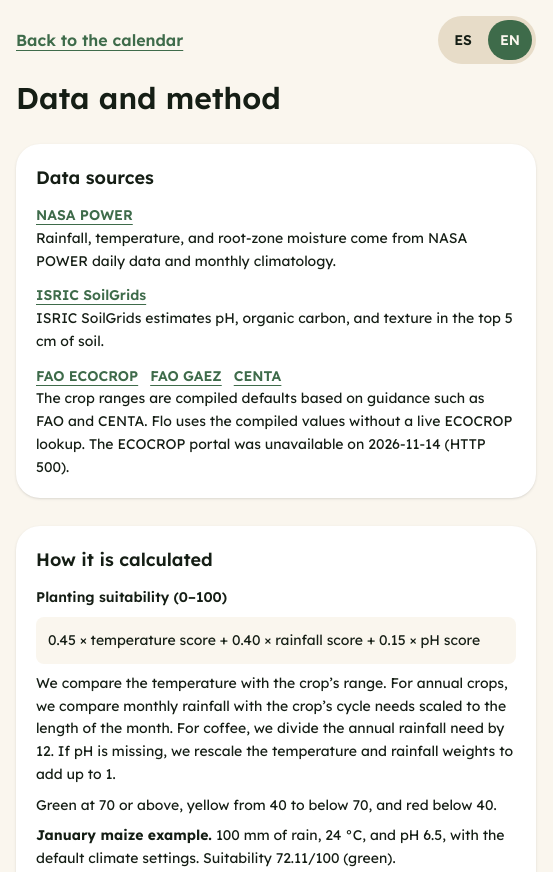
translates citations and explains that recent rainfall may be unavailable in English
Expected: the heading "Data and method" is shown, [16,79,281,117]
Expected: the text "compiled defaults" is shown, [36,389,512,453]
Click the button "ES".
click(463, 40)  # box [442,20,484,60]
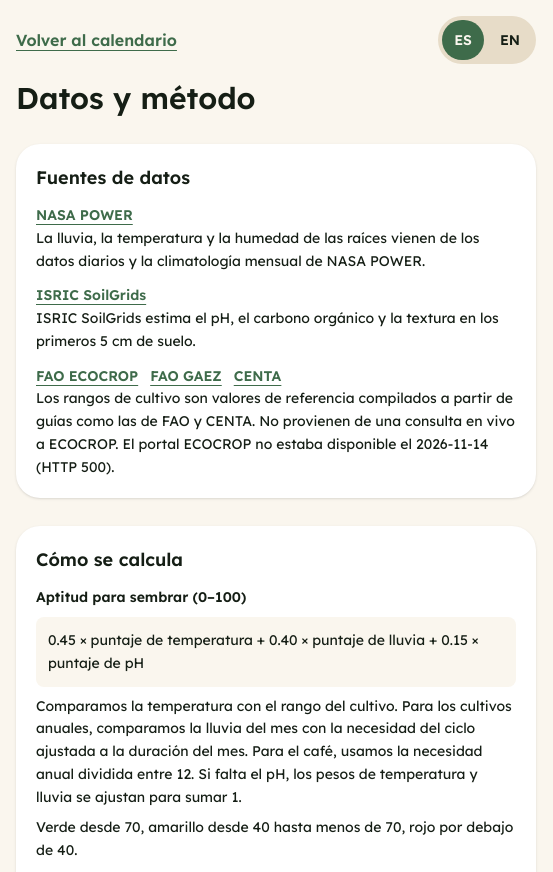
Now the heading "Datos y método" is shown, box [16,79,256,117]
